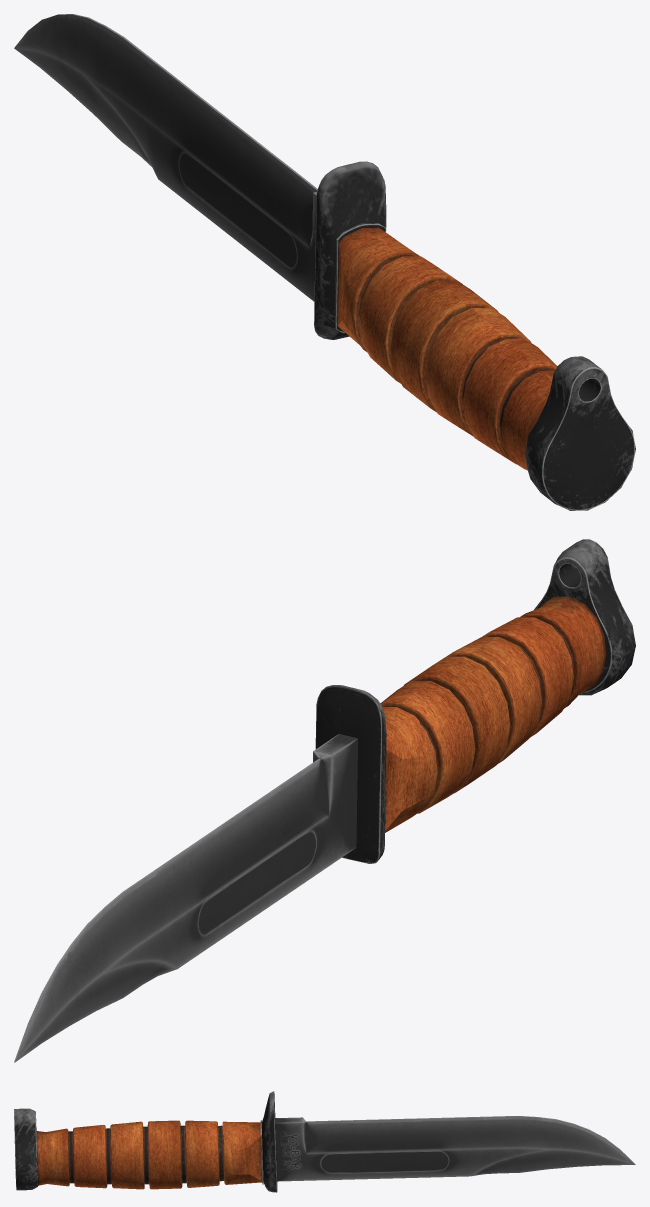
File: knife_kabar.glb
3 renders of one model, top to bottom at view 1: azimuth 30°, elevation 25°; view 2: azimuth 150°, elevation 25°; view 3: azimuth 270°, elevation 25°, orthographic. The views are drawn at different scales.
Parts seen in each view (by area): view 1: kosa_low.001_metal_knife_0; view 2: kosa_low.001_metal_knife_0; view 3: kosa_low.001_metal_knife_0.
Part boxes in pixels (<box>): kosa_low.001_metal_knife_0: <box>14,14,635,510</box>; kosa_low.001_metal_knife_0: <box>14,539,635,1062</box>; kosa_low.001_metal_knife_0: <box>14,1091,635,1192</box>.
Bounding box in the file's own units: 0.0285 × 0.0493 × 0.3.
1 material, 1 textured.
